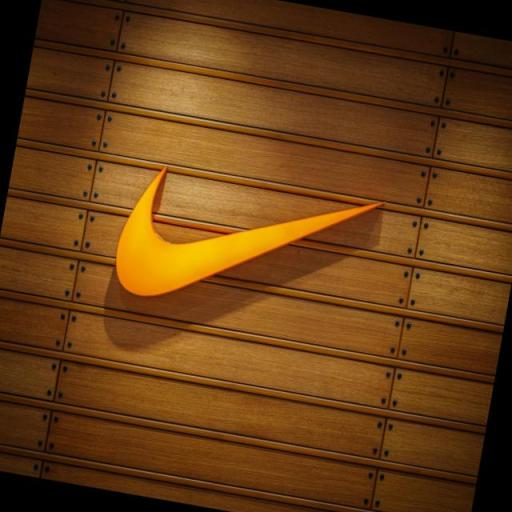Nike: (108, 160, 382, 335)
